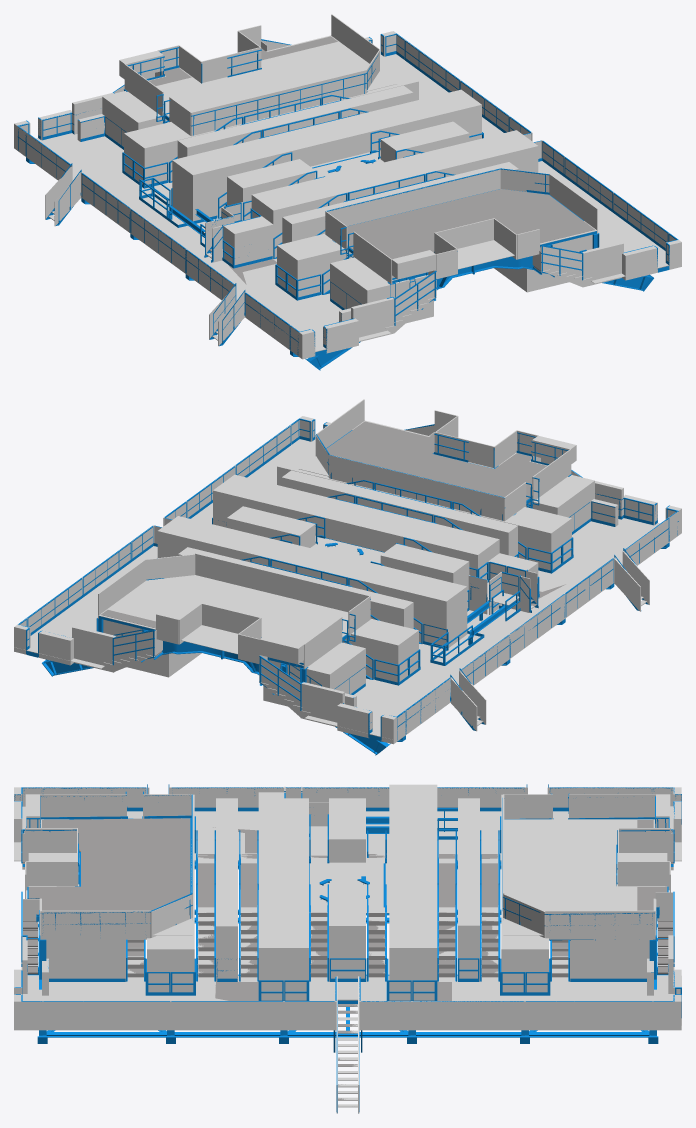
File: HS Top.fbx
3 views of the same model, one above another, from view 1: azimuth 30°, elevation 25°; view 2: azimuth 150°, elevation 25°; view 3: azimuth 270°, elevation 25° (orthographic). The views are drawn at different scales.
Visible parts, largest first — view 1: !HS Top Platforms, HS Top Floor Colider.163, HS Top Floor Colider, HS Top Floor Colider.161, HS Top Floor Colider.006, HS Top Floor Colider.164, HS Top Floor Colider.220, HS Top Floor Colider.172, HS Top Floor Colider.156, HS Top Floor Colider.209, HS Top Floor Colider.155, HS Top Floor Colider.157 (+40 smaller); view 2: !HS Top Platforms, HS Top Floor Colider.163, HS Top Floor Colider.161, HS Top Floor Colider, HS Top Floor Colider.006, HS Top Floor Colider.162, HS Top Floor Colider.209, HS Top Floor Colider.172, HS Top Floor Colider.220, HS Top Floor Colider.155, HS Top Floor Colider.156, HS Top Floor Colider.159 (+42 smaller); view 3: !HS Top Platforms, HS Top Floor Colider.006, HS Top Floor Colider.163, HS Top Floor Colider.161, HS Top Floor Colider.203, HS Top Floor Colider.204, HS Top Floor Colider.002, HS Top Floor Colider.172, HS Top Floor Colider, HS Top Floor Colider.162, HS Top Floor Colider.164, HS Top Floor Colider.003 (+23 smaller).
Part boxes in pixels (x1,y1,x2,y2): !HS Top Platforms: [17, 33, 678, 370]; HS Top Floor Colider.163: [172, 89, 481, 221]; HS Top Floor Colider: [36, 133, 391, 351]; HS Top Floor Colider.161: [251, 130, 538, 257]; HS Top Floor Colider.006: [148, 35, 396, 117]; HS Top Floor Colider.164: [177, 85, 413, 158]; HS Top Floor Colider.220: [190, 70, 366, 136]; HS Top Floor Colider.172: [81, 172, 235, 300]; HS Top Floor Colider.156: [124, 66, 418, 185]; HS Top Floor Colider.209: [325, 168, 500, 234]; HS Top Floor Colider.155: [277, 233, 353, 297]; HS Top Floor Colider.157: [330, 257, 433, 323]; !HS Top Platforms: [18, 418, 678, 755]; HS Top Floor Colider.163: [157, 516, 467, 647]; HS Top Floor Colider.161: [213, 474, 499, 579]; HS Top Floor Colider: [304, 518, 659, 739]; HS Top Floor Colider.006: [98, 575, 348, 665]; HS Top Floor Colider.162: [281, 470, 517, 557]; HS Top Floor Colider.209: [329, 455, 505, 521]; HS Top Floor Colider.172: [460, 557, 614, 685]; HS Top Floor Colider.220: [195, 553, 370, 619]; HS Top Floor Colider.155: [277, 451, 571, 570]; HS Top Floor Colider.156: [342, 618, 418, 682]; HS Top Floor Colider.159: [263, 642, 365, 706]; !HS Top Platforms: [14, 784, 681, 1112]; HS Top Floor Colider.006: [503, 819, 656, 935]; HS Top Floor Colider.163: [389, 784, 437, 1000]; HS Top Floor Colider.161: [258, 798, 308, 1000]; HS Top Floor Colider.203: [22, 1001, 336, 1030]; HS Top Floor Colider.204: [359, 1001, 673, 1030]; HS Top Floor Colider.002: [360, 975, 681, 1024]; HS Top Floor Colider.172: [169, 787, 526, 807]; HS Top Floor Colider: [14, 811, 681, 861]; HS Top Floor Colider.162: [216, 798, 237, 981]; HS Top Floor Colider.164: [458, 798, 479, 981]; HS Top Floor Colider.003: [22, 975, 335, 1000].
Bounding box in the file's own units: 2254 × 663 × 2659.
